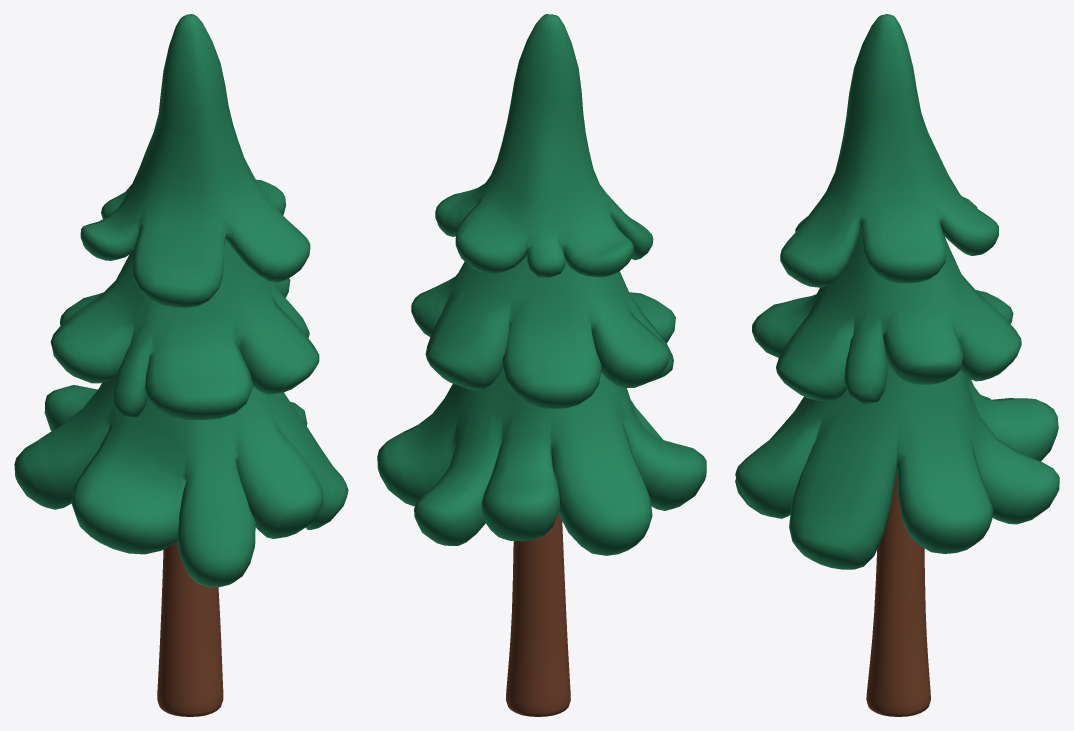
File: Pine_05.fbx
3 views of the same model, side by side, from view 1: azimuth 30°, elevation 25°; view 2: azimuth 150°, elevation 25°; view 3: azimuth 270°, elevation 25° (orthographic).
Parts seen in each view (by area): view 1: Pine_05_LOD0; view 2: Pine_05_LOD0; view 3: Pine_05_LOD0.
Boxes of the visible parts, left/top/right/bottom form: Pine_05_LOD0: left=14, top=14, right=348, bottom=716; Pine_05_LOD0: left=377, top=14, right=706, bottom=716; Pine_05_LOD0: left=735, top=14, right=1059, bottom=716.
Size of what is drawn, in the model's own units: 629 by 1522 by 651.
